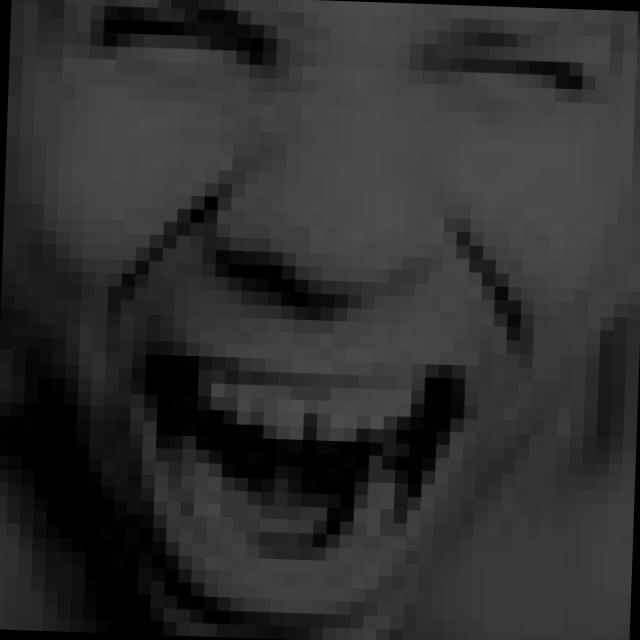angry: (30, 0, 604, 629)
